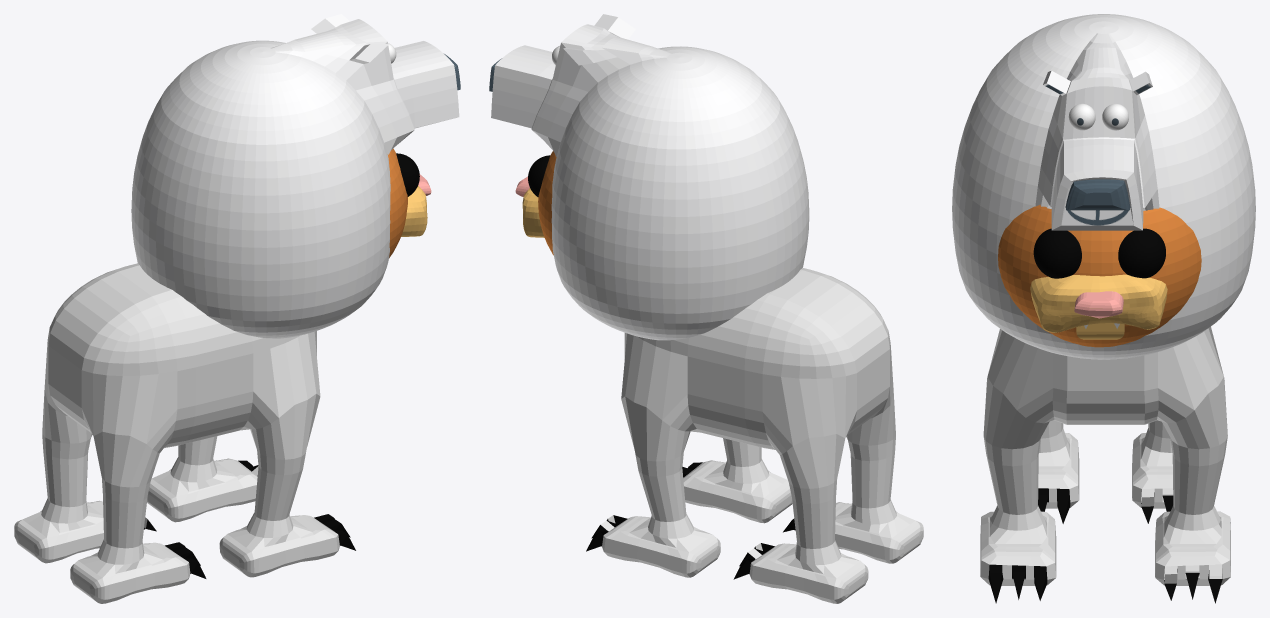
Rendered from ijsbeerKatMat.fbx.
3 views of the same model, side by side, from view 1: azimuth 30°, elevation 25°; view 2: azimuth 150°, elevation 25°; view 3: azimuth 270°, elevation 25° (orthographic). The views are drawn at different scales.
Parts seen in each view (by area): view 1: Sphere.035, Cube.058, Sphere.032, Cube.057, Sphere.033; view 2: Sphere.035, Cube.058, Sphere.032, Cube.057; view 3: Sphere.035, Cube.058, Sphere.032, Cube.057, Sphere.033, Sphere.037, Sphere.036.
Boxes of the visible parts, left/top/right/bottom form: Sphere.035: left=131, top=14, right=460, bottom=338; Cube.058: left=14, top=263, right=355, bottom=603; Sphere.032: left=387, top=148, right=407, bottom=258; Cube.057: left=401, top=174, right=431, bottom=236; Sphere.033: left=396, top=153, right=419, bottom=196; Sphere.035: left=489, top=14, right=809, bottom=340; Cube.058: left=586, top=267, right=923, bottom=603; Sphere.032: left=538, top=151, right=556, bottom=255; Cube.057: left=515, top=176, right=544, bottom=237; Sphere.035: left=952, top=14, right=1255, bottom=359; Cube.058: left=980, top=326, right=1230, bottom=603; Sphere.032: left=998, top=204, right=1201, bottom=347; Cube.057: left=1030, top=274, right=1167, bottom=339; Sphere.033: left=1033, top=228, right=1165, bottom=278; Sphere.037: left=1068, top=103, right=1095, bottom=130; Sphere.036: left=1102, top=104, right=1128, bottom=130.
Bounding box in the file's own units: 458 × 535 × 265.
6 materials, 3 textured.
